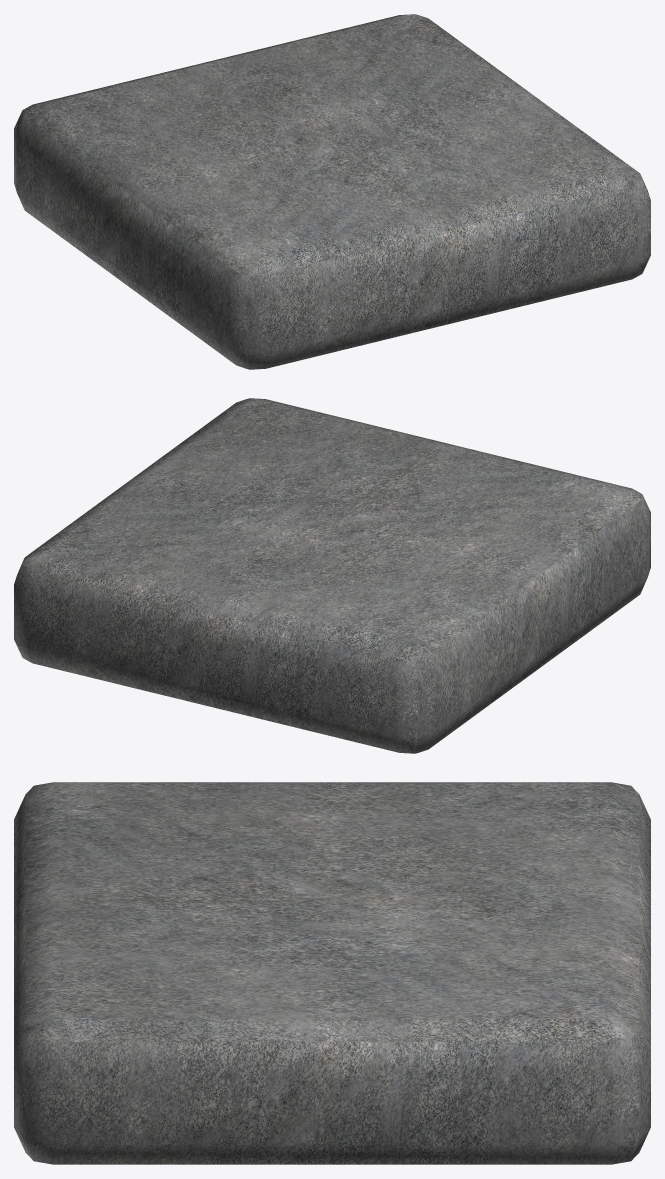
File: movingPlatform.gltf
3 views of the same model, one above another, from view 1: azimuth 30°, elevation 25°; view 2: azimuth 150°, elevation 25°; view 3: azimuth 270°, elevation 25° (orthographic). The views are drawn at different scales.
Parts seen in each view (by area): view 1: ChamferBox001; view 2: ChamferBox001; view 3: ChamferBox001.
Part boxes in pixels (bbox=[...]): ChamferBox001: bbox=[14, 14, 650, 369]; ChamferBox001: bbox=[14, 398, 650, 753]; ChamferBox001: bbox=[14, 782, 650, 1164].
Bounding box in the file's own units: 2 × 0.5 × 2.
